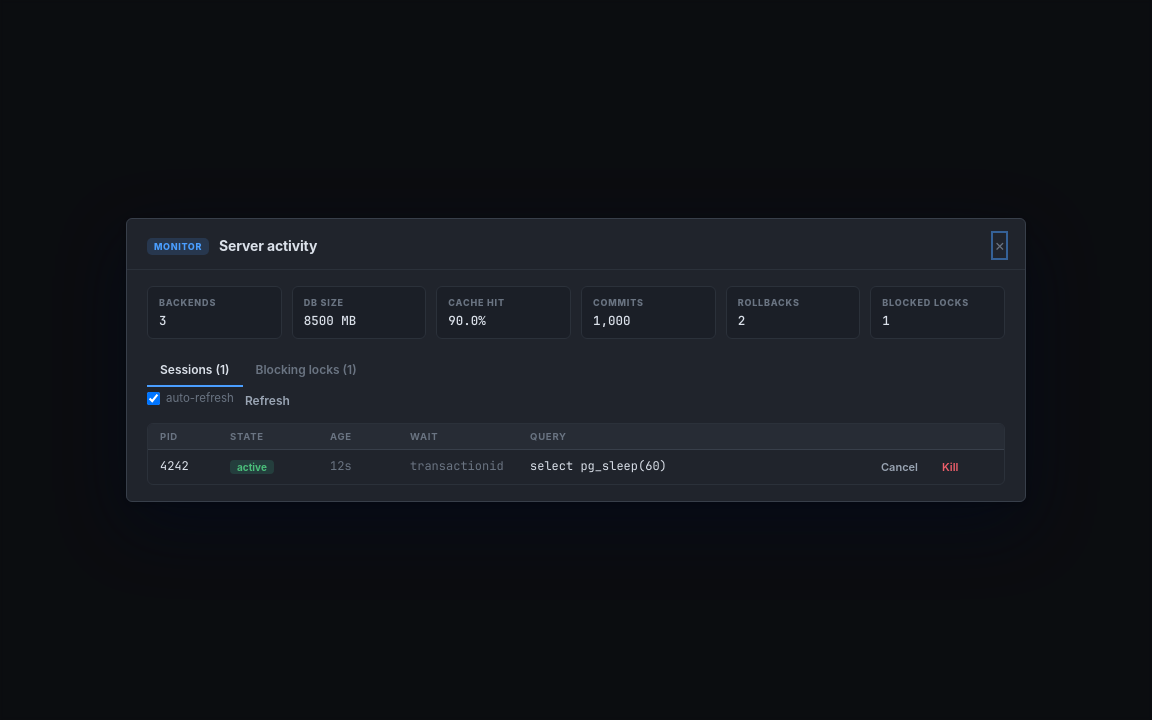
Scenario: MonitorModal — locks › shows the lock detail on its tab
Click the button "Blocking locks (1)".
click(306, 370)  # box [242,353,370,387]
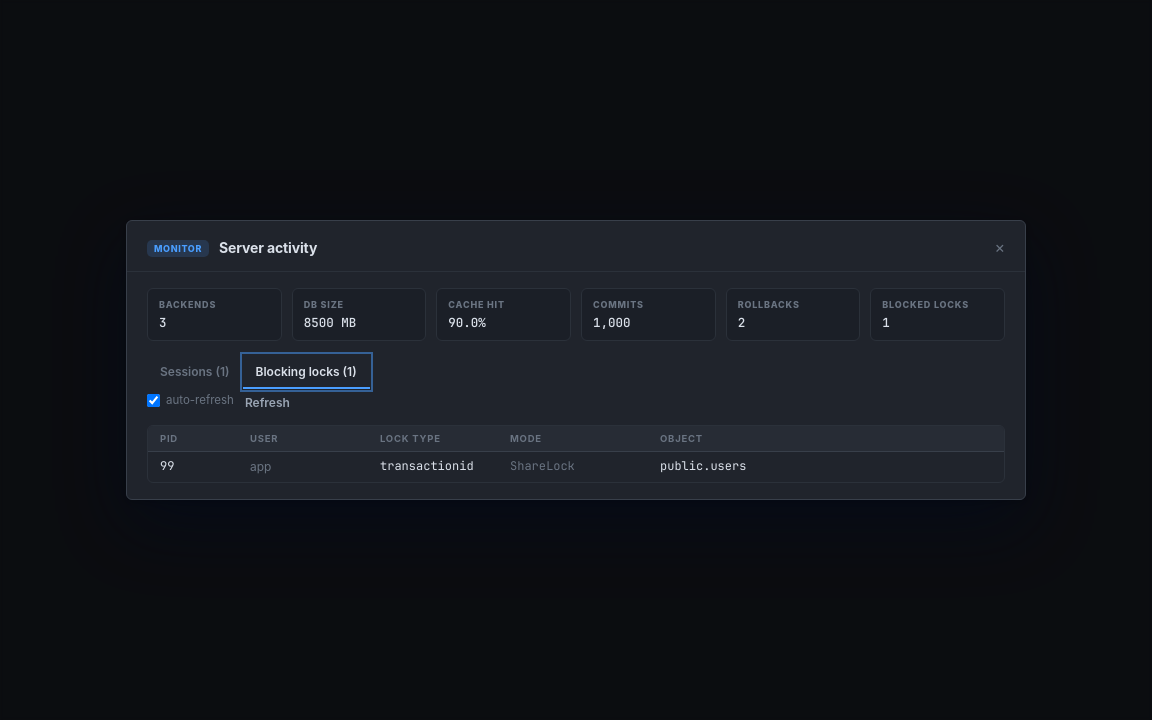
Now the text "99" is shown, box [160,458,174,474]
Now the text "ShareLock" is shown, box [510,458,575,474]
Now the text "public.users" is shown, box [660,458,746,474]
